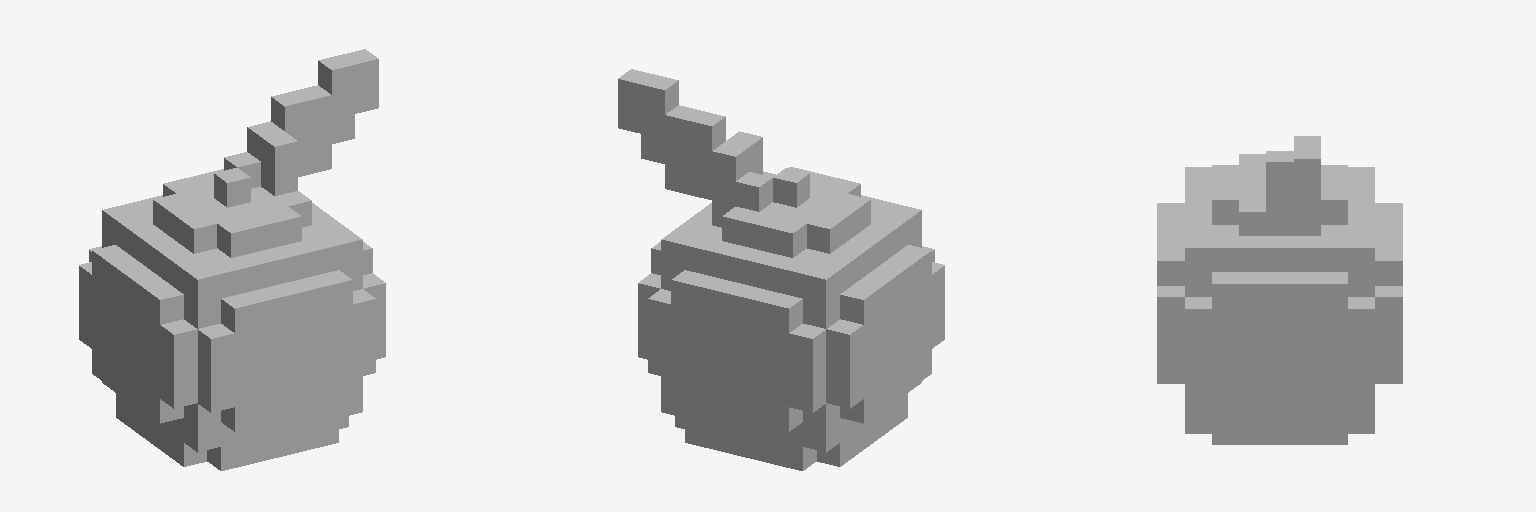
Rendered from apple.obj.
The picture shows the model from 3 angles: view 1: azimuth 30°, elevation 25°; view 2: azimuth 150°, elevation 25°; view 3: azimuth 270°, elevation 25°; orthographic projection.
Parts seen in each view (by area): view 1: object 1; view 2: object 1; view 3: object 1.
Part boxes in pixels (bbox=[...]): object 1: bbox=[79, 49, 385, 470]; object 1: bbox=[618, 69, 944, 470]; object 1: bbox=[1157, 136, 1402, 444].
Size of the model in its own units: 1.1 by 1.3 by 0.9.